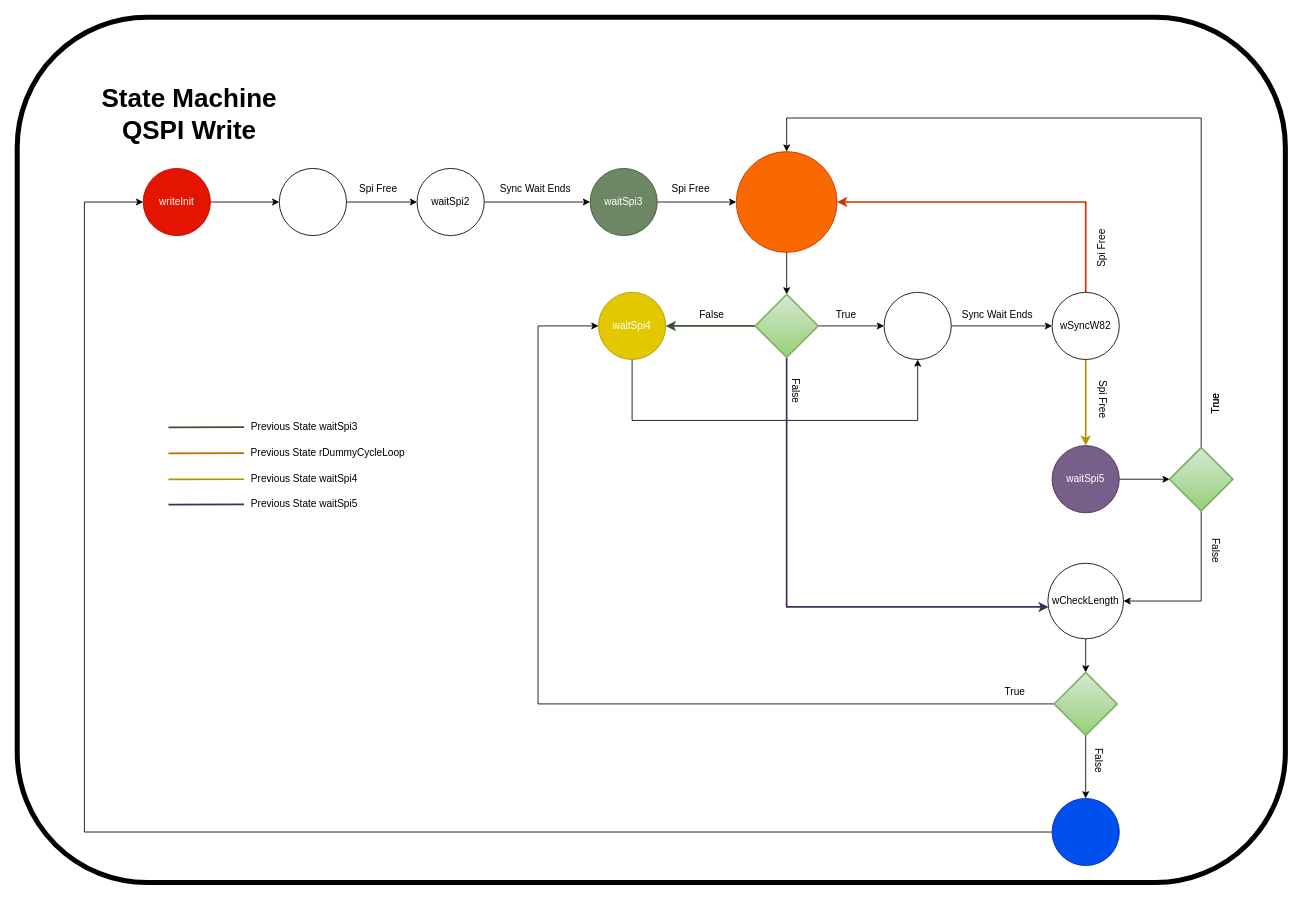
Some shapes in this 1302 by 899 pixel diagram are drawn without their labels. The shapes that lost their labels are listed below. From the top down, each one's box as (x1, y1, x2, y2) in pixels, then its label:
(278, 168, 346, 236): waitSpi1
(735, 151, 837, 252): wDummyCycleLoop
(883, 291, 951, 360): wSyncW81
(1051, 798, 1119, 866): writeEnd
